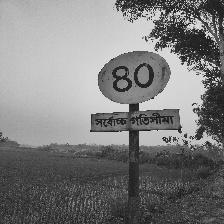Speed-limit: (93, 51, 179, 134)
